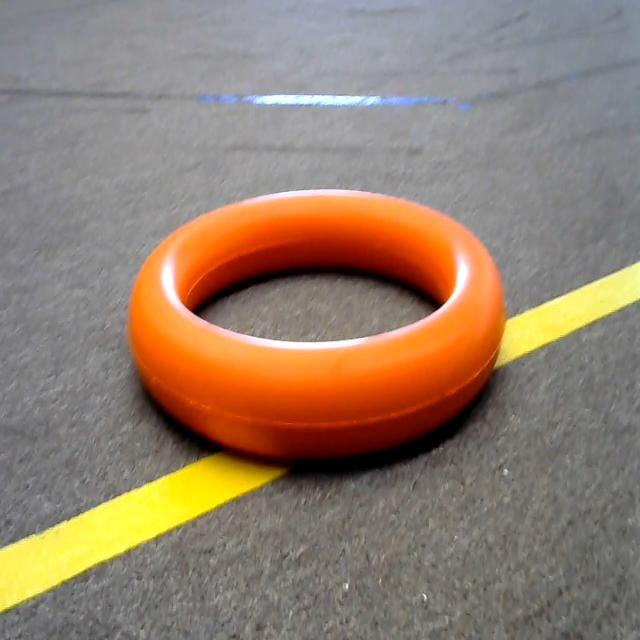note: (106, 172, 513, 505)
